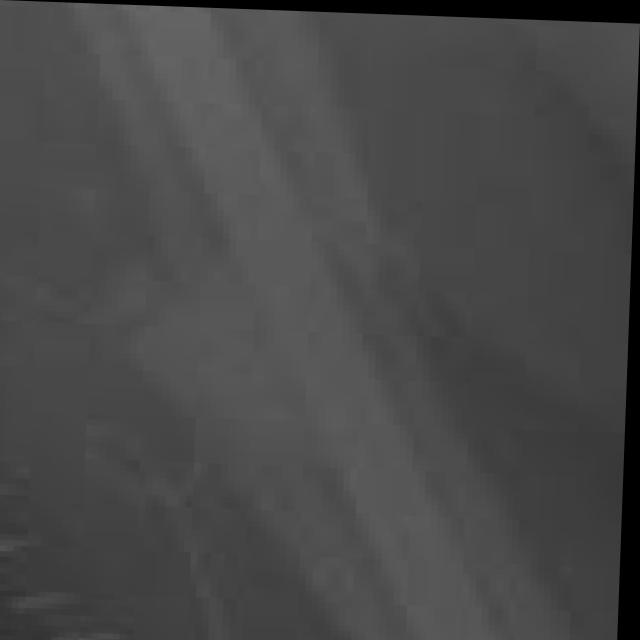fracture: (0, 10, 627, 640)
